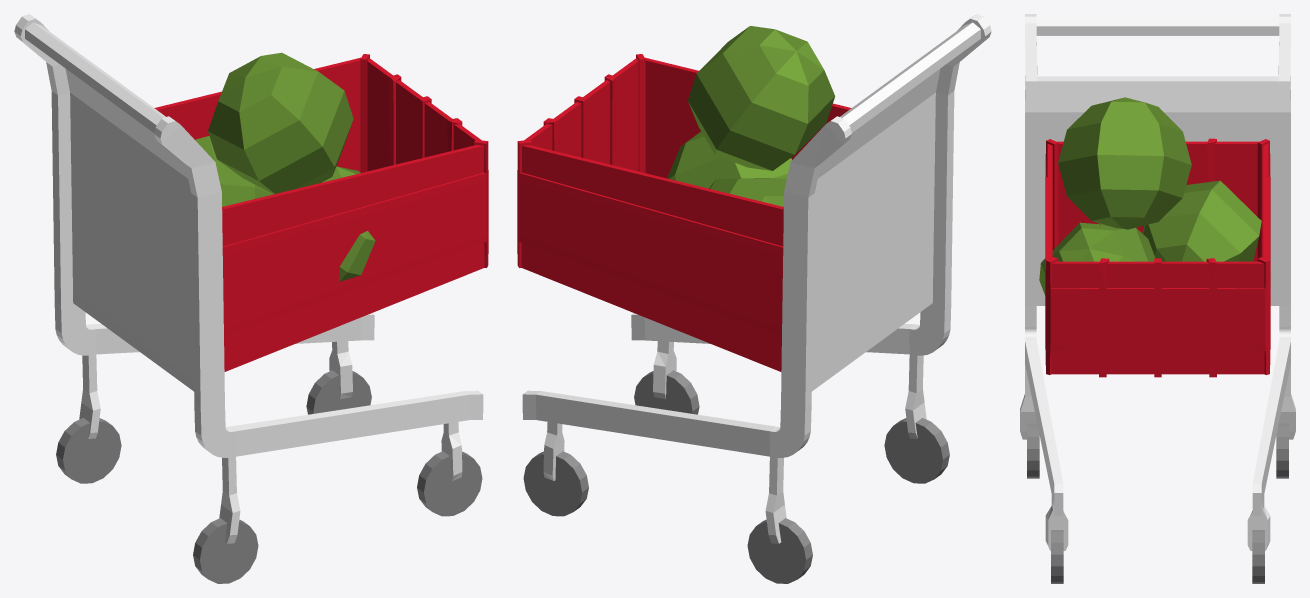
Rendered from SM_cart_01.fbx.
3 renders of one model, left to right at view 1: azimuth 30°, elevation 25°; view 2: azimuth 150°, elevation 25°; view 3: azimuth 270°, elevation 25°, orthographic. The views are drawn at different scales.
Visible parts, largest first — view 1: SM_cart_01; view 2: SM_cart_01; view 3: SM_cart_01.
Part boxes in pixels (x1,y1,x2,y2): SM_cart_01: (14, 14, 488, 583); SM_cart_01: (517, 14, 991, 583); SM_cart_01: (1020, 14, 1295, 583).
Size of the model in its own units: 93.87 by 125 by 71.77.
